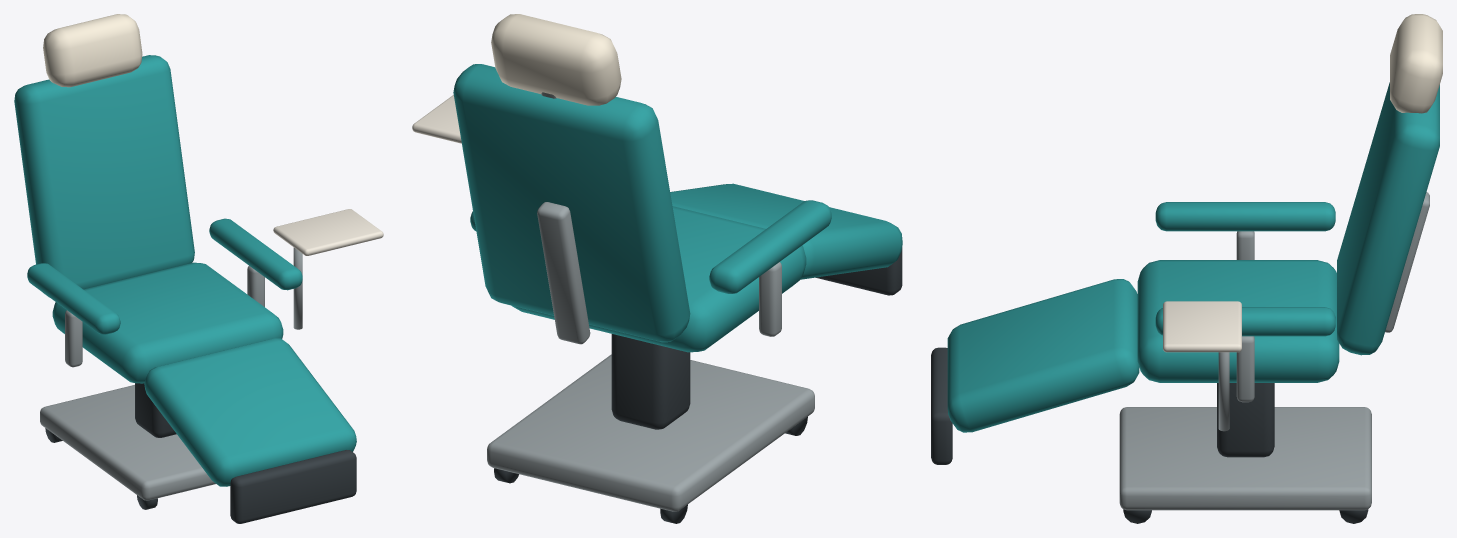
Rendered from TreatmentRecliner_standard.glb.
3 views of the same model, side by side, from view 1: azimuth 30°, elevation 25°; view 2: azimuth 150°, elevation 25°; view 3: azimuth 270°, elevation 25° (orthographic). The views are drawn at different scales.
Parts seen in each view (by area): view 1: TreatmentRecliner_standard; view 2: TreatmentRecliner_standard; view 3: TreatmentRecliner_standard.
Part boxes in pixels (x1,y1,x2,y2): TreatmentRecliner_standard: (14, 14, 383, 523); TreatmentRecliner_standard: (412, 14, 902, 523); TreatmentRecliner_standard: (931, 14, 1442, 523).
Size of the model in its own units: 1.09 by 1.38 by 1.42.
